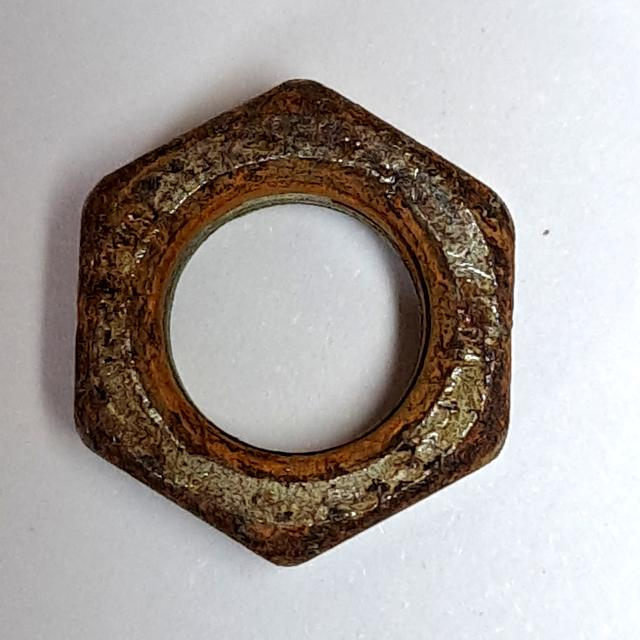Rust: (59, 62, 525, 586)
